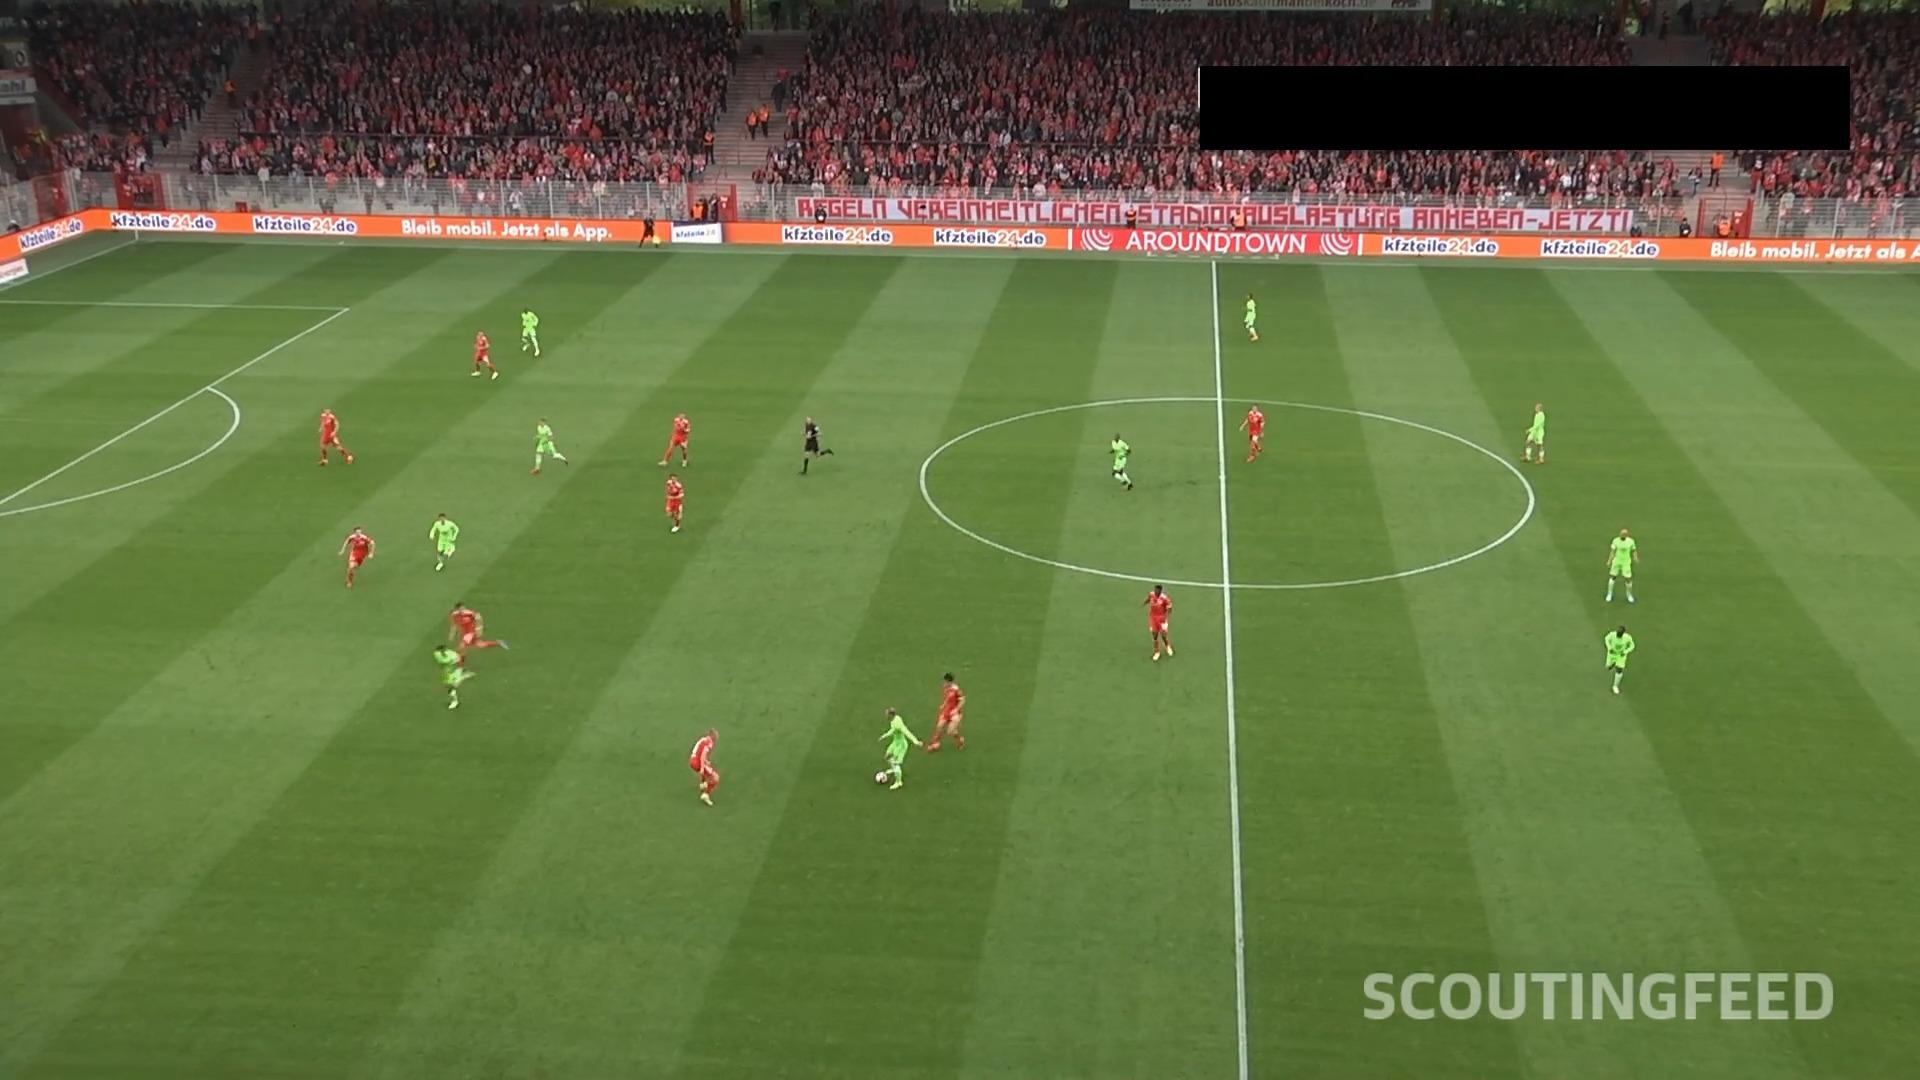ball: (874, 769, 889, 785)
